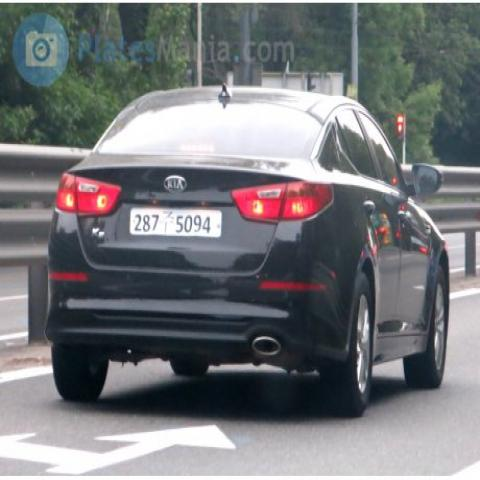LP: (126, 199, 226, 245)
